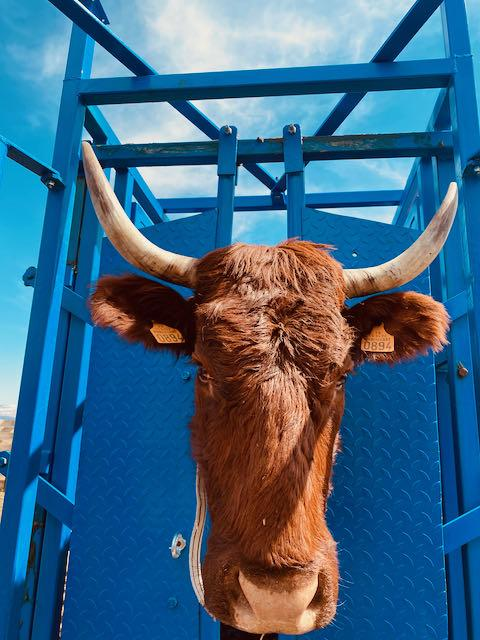muzzles: (195, 550, 343, 638)
